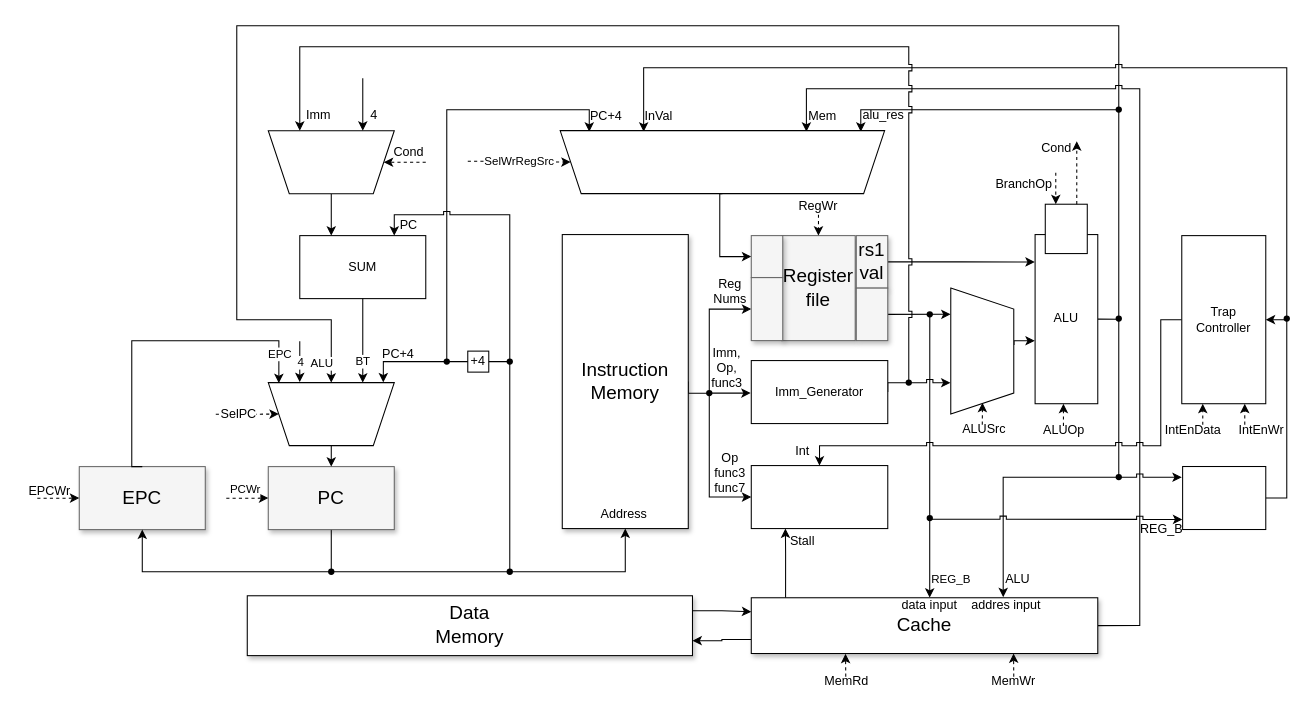
Some shapes in this 1316 by 715 pixel diagram are drawn without their labels. Each missing label, with the centre of its shape:
Branch Unit: point (1065, 228)
Control Unit: point (819, 497)
I/O module: point (1224, 497)
rd val: point (767, 257)
rs1 rs2 rd: point (767, 310)
rs2 val: point (872, 315)
